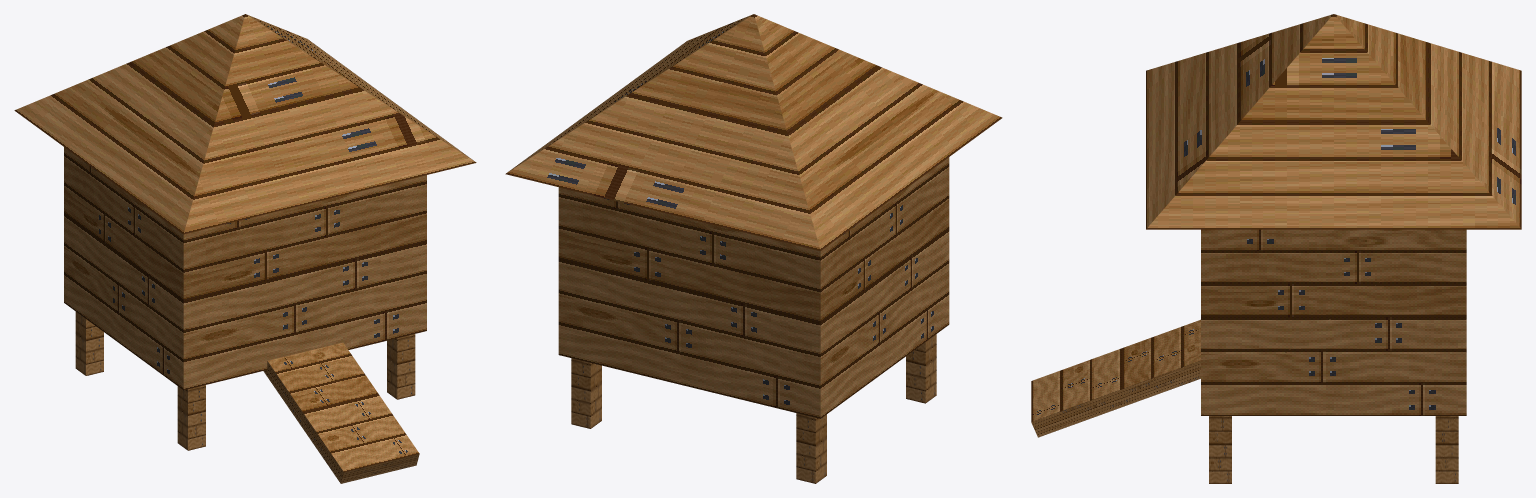
File: galinheiro.glb
3 renders of one model, left to right at view 1: azimuth 30°, elevation 25°; view 2: azimuth 150°, elevation 25°; view 3: azimuth 270°, elevation 25°, orthographic. The views are drawn at different scales.
Parts seen in each view (by area): view 1: galinheiro; view 2: galinheiro; view 3: galinheiro.
Part boxes in pixels (bbox=[...]): galinheiro: bbox=[14, 14, 476, 483]; galinheiro: bbox=[505, 14, 1002, 483]; galinheiro: bbox=[1031, 14, 1521, 483].
Size of the model in its own units: 1.63 by 1.95 by 2.12.
1 material, 1 textured.
